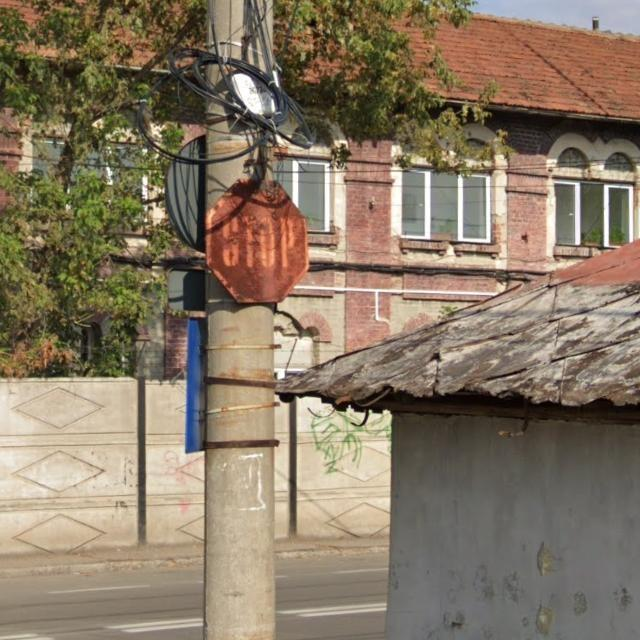prio_stop: (205, 176, 306, 305)
